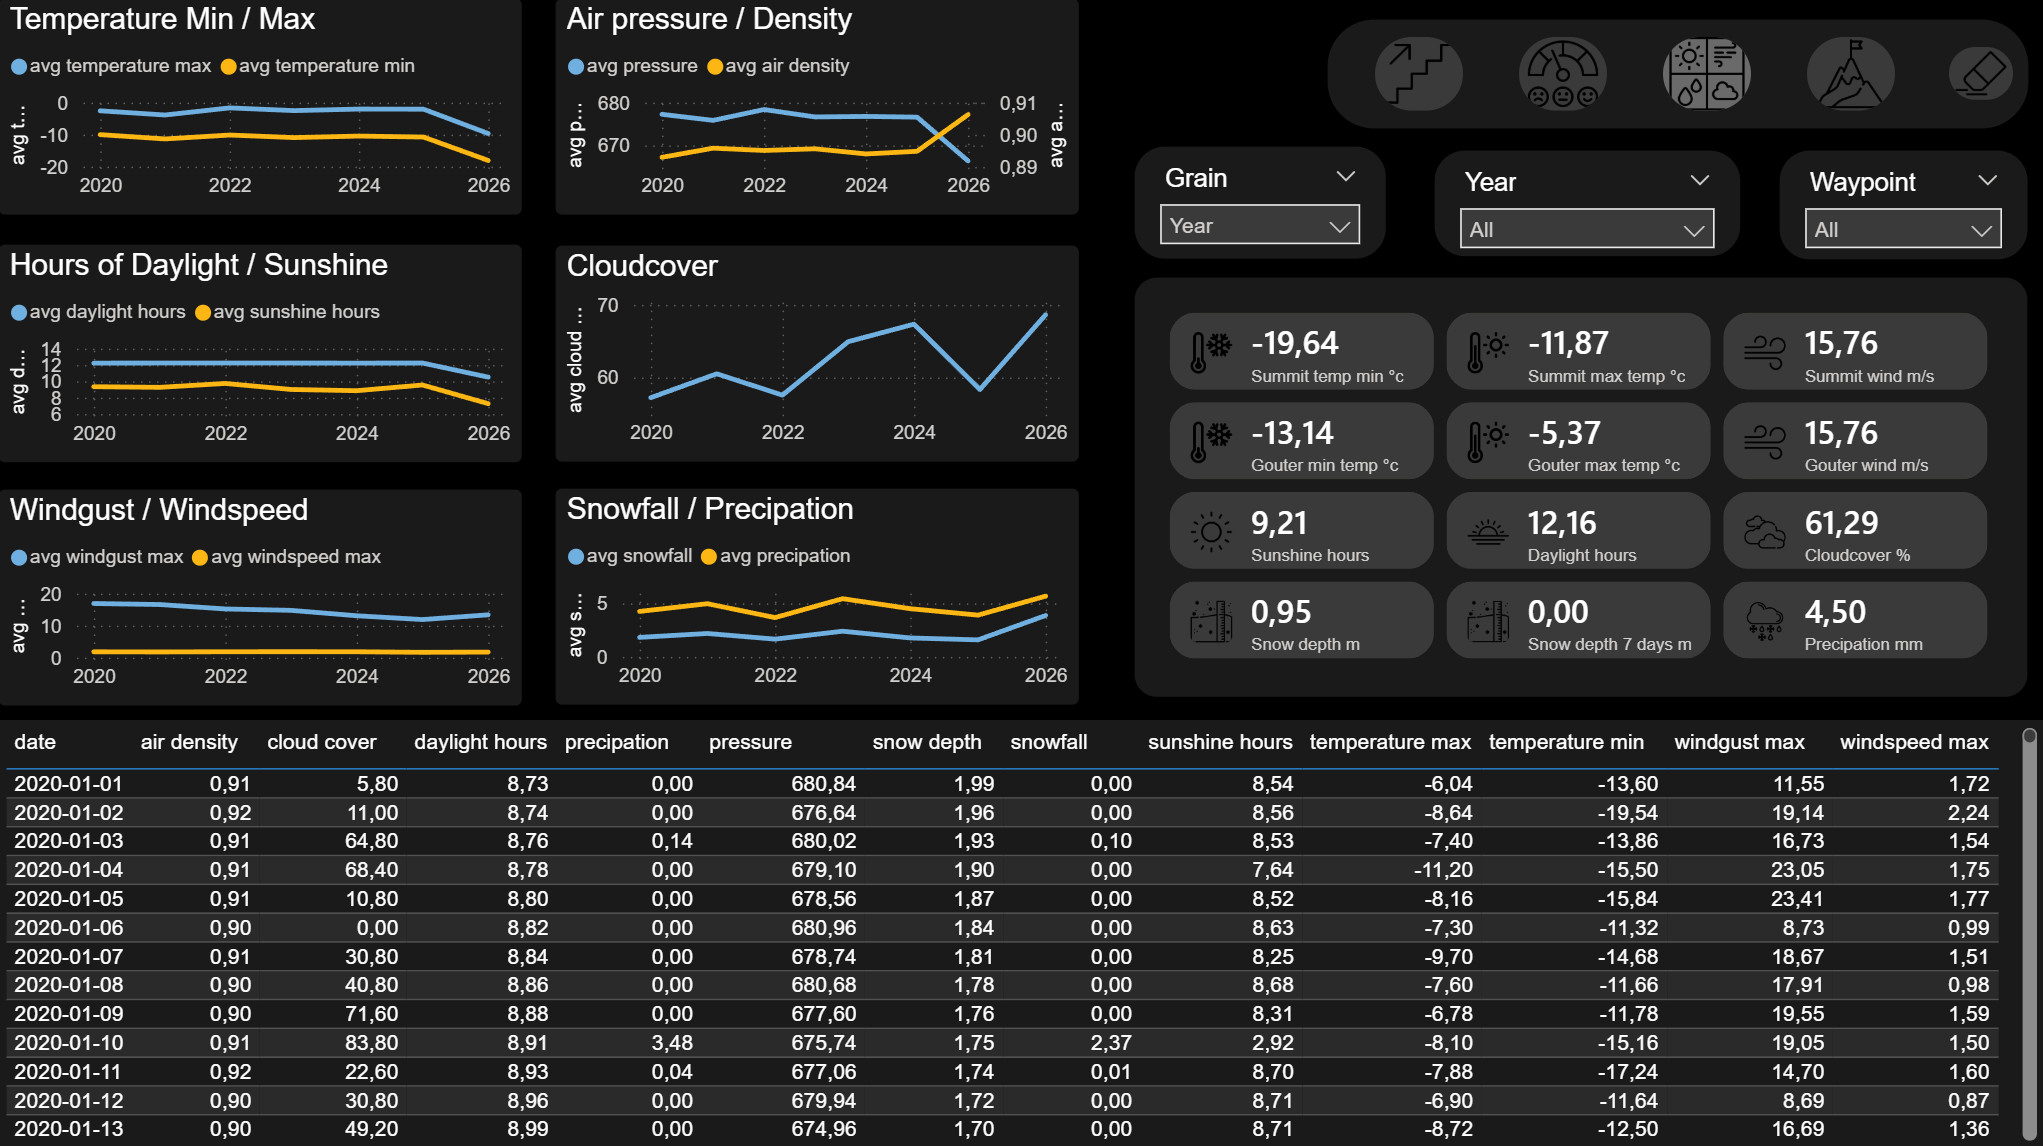

What the dashboard file says about the page in this screenshot:
{"tool":"powerbi","page":{"name":"Daily conditions","canvas":[1280,720],"ordinal":1},"visuals":[{"type":"slicer","fields":{"Values":["daily_conditions.waypoint_name"]},"box":[1113.2,95.1,157.2,70.3],"z":0},{"type":"slicer","fields":{"Values":["date.date"]},"box":[710,92.4,159.2,72.4],"z":1000},{"type":"lineChart","title":"Windgust / Windspeed","fields":{"Category":["date_spine.date.Variation.Date Hierarchy.Year"],"Y":["Table.avg windgust max","Table.avg windspeed max"]},"box":[0,306.7,329,137],"z":2000},{"type":"lineChart","title":"Snowfall / Precipation","fields":{"Category":["date_spine.date.Variation.Date Hierarchy.Year"],"Y":["Table.avg snowfall","Table.avg precipation"]},"box":[347.8,306.1,329.3,137.1],"z":3000},{"type":"lineChart","title":"Temperature Min / Max","fields":{"Category":["date_spine.date.Variation.Date Hierarchy.Year"],"Y":["Table.avg temperature max","Table.avg temperature min"]},"box":[0,0,329,137],"z":4000},{"type":"lineChart","title":"Hours of Daylight / Sunshine","fields":{"Category":["date_spine.date.Variation.Date Hierarchy.Year"],"Y":["Table.avg daylight hours","Table.avg sunshine hours"]},"box":[0,153.7,329,137.9],"z":5000},{"type":"lineChart","title":"Air pressure / Density","fields":{"Category":["date_spine.date.Variation.Date Hierarchy.Year"],"Y":["Table.avg pressure"],"Y2":["Table.avg air density"]},"box":[347.8,0,329.3,137.1],"z":6000},{"type":"lineChart","title":"Cloudcover","fields":{"Category":["date_spine.date.Variation.Date Hierarchy.Year"],"Y":["Table.avg cloud cover"]},"box":[347.8,154.4,329.3,137.1],"z":7000},{"type":"cardVisual","fields":{"Data":["Table.summit temperature min","Table.summit temperature max","Table.summit wind max","Table.gouter temperature min","Table.gouter temperature max","Table.gouter wind max","Table.sunshine","Table.daylight","Table.cloudcover","Table.snow_depth","Table.7d_depth","Table.precipation"]},"box":[710.2,174.2,559.8,264.3],"z":8000},{"type":"tableEx","fields":{"Values":["date_spine.date.Variation.Date Hierarchy.Year","Table.avg air density","Table.avg cloud cover","Table.avg daylight hours","Table.avg precipation","Table.avg pressure","Table.avg snow depth","Table.avg snowfall","Table.avg sunshine hours","Table.avg temperature max","Table.avg temperature min","Table.avg windgust max"]},"box":[0,452.2,1280,268.1],"z":9000},{"type":"slicer","fields":{"Values":["date_spine.date.Variation.Date Hierarchy.Year"]},"box":[897.4,95.1,193,67.5],"z":10000},{"type":"shape","box":[830.8,13.1,440,70],"z":11000},{"type":"image","box":[1041.2,25,55,46.2],"z":12000},{"type":"image","box":[951.2,25,55,46.2],"z":13000},{"type":"image","box":[861.2,25,55,46.2],"z":14000},{"type":"image","box":[1220,31.2,40,32.5],"z":15000},{"type":"image","box":[1131.2,25,55,46.2],"z":16000}]}

Visuals, with their boxes in screenshot pixels (x1, y1, x2, y2), scaled from the page's 1280x720 canvas onto the 2043x1146 screenshot:
slicer - daily_conditions.waypoint_name: <region>1777, 151, 2028, 263</region>
slicer - date.date: <region>1133, 147, 1387, 262</region>
"Windgust / Windspeed" lineChart: <region>0, 488, 525, 706</region>
"Snowfall / Precipation" lineChart: <region>555, 487, 1081, 705</region>
"Temperature Min / Max" lineChart: <region>0, 0, 525, 218</region>
"Hours of Daylight / Sunshine" lineChart: <region>0, 245, 525, 464</region>
"Air pressure / Density" lineChart: <region>555, 0, 1081, 218</region>
"Cloudcover" lineChart: <region>555, 246, 1081, 464</region>
cardVisual - Table.summit temperature min x Table.summit temperature max: <region>1134, 277, 2027, 698</region>
tableEx - date_spine.date.Variation.Date Hierarchy.Year x Table.avg air density: <region>0, 720, 2042, 1145</region>
slicer - date_spine.date.Variation.Date Hierarchy.Year: <region>1432, 151, 1740, 259</region>
shape: <region>1326, 21, 2028, 132</region>
image: <region>1662, 40, 1750, 113</region>
image: <region>1518, 40, 1606, 113</region>
image: <region>1375, 40, 1462, 113</region>
image: <region>1947, 50, 2011, 101</region>
image: <region>1806, 40, 1893, 113</region>
